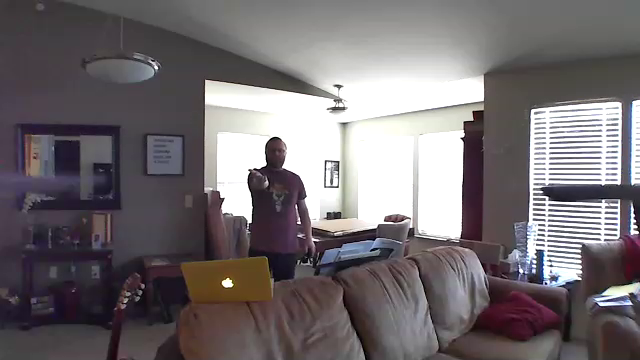land: (245, 165, 271, 187)
